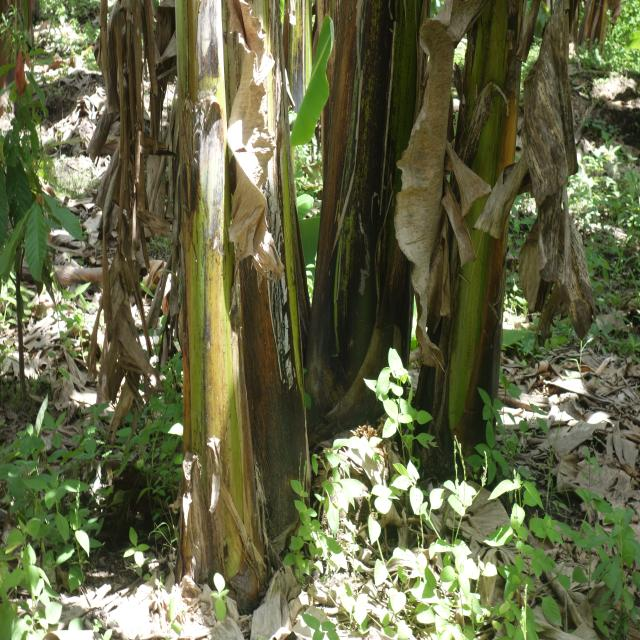Banana-plant: (164, 0, 304, 592), (411, 0, 528, 476), (311, 0, 429, 447)
